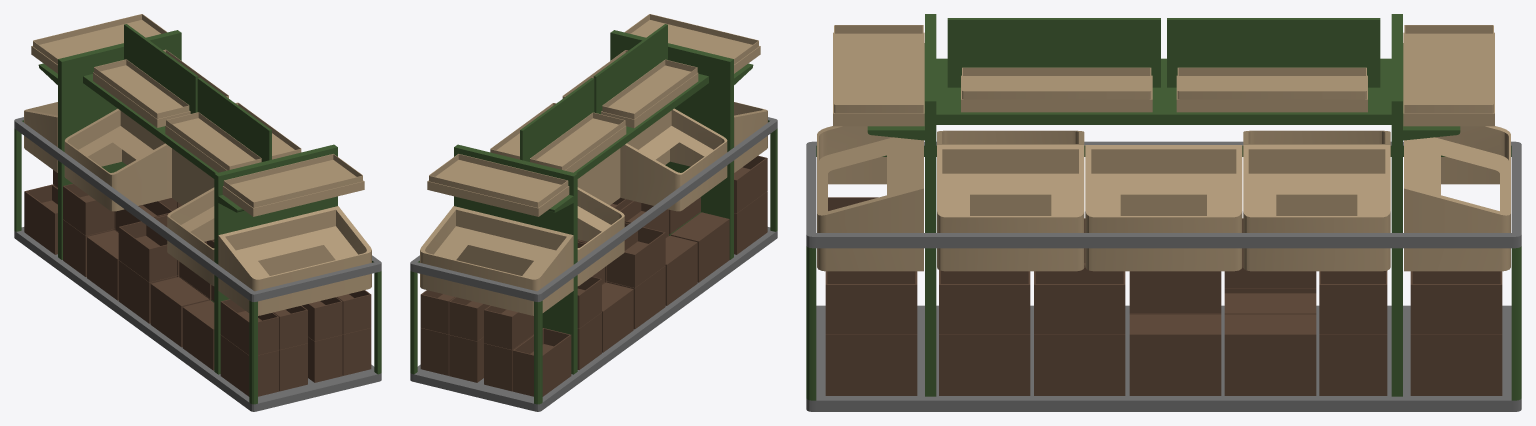
File: Stand3.fbx
3 views of the same model, side by side, from view 1: azimuth 30°, elevation 25°; view 2: azimuth 150°, elevation 25°; view 3: azimuth 270°, elevation 25° (orthographic). The views are drawn at different scales.
Parts seen in each view (by area): view 1: Stand; view 2: Stand; view 3: Stand.
Boxes of the visible parts, x1,y1,x2,y2 form: Stand: [14, 14, 381, 411]; Stand: [410, 14, 777, 411]; Stand: [806, 14, 1521, 411].
Size of the model in its own units: 492 by 833 by 1562.
